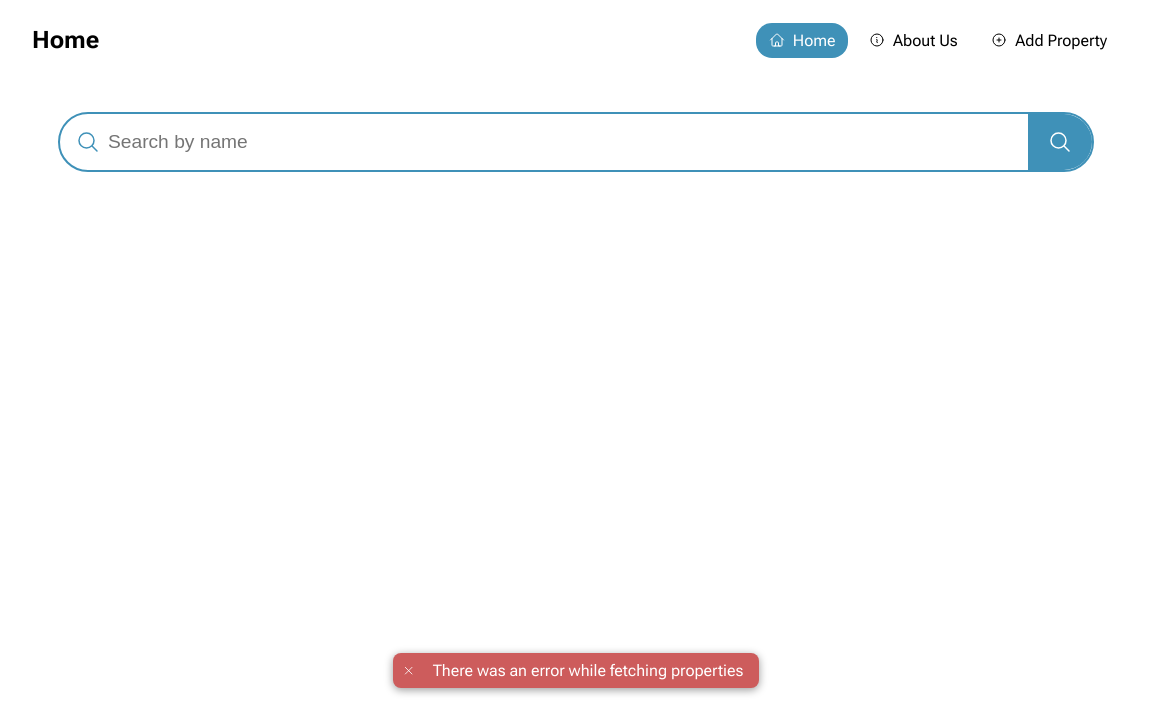
Scenario: Navigation › Add Property Link should work
The width and height of the screenshot is (1152, 720).
Expected: the heading "Home" is shown, [32,26,99,54]
What coordinates should you click on to do the following:
click the link to "/add-property"
I would click on:
 (1049, 41)
Its box is [991,31,1107,50].
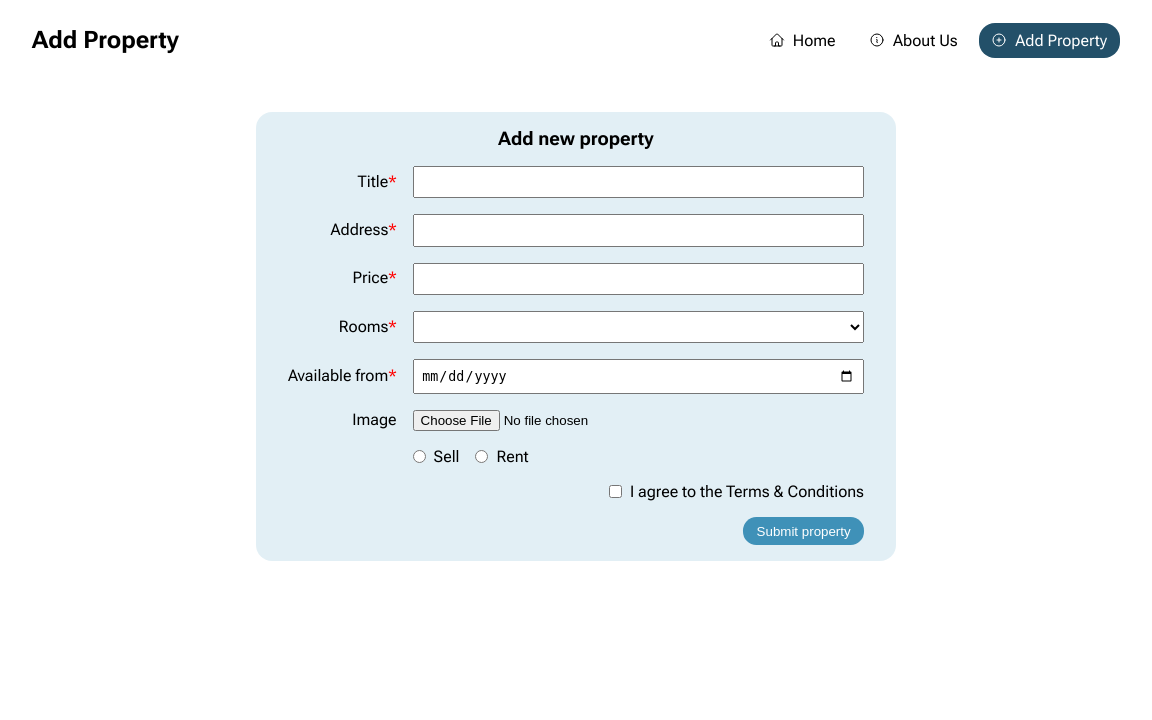
Expected: the heading "Add Property" is shown, [32,26,179,54]
